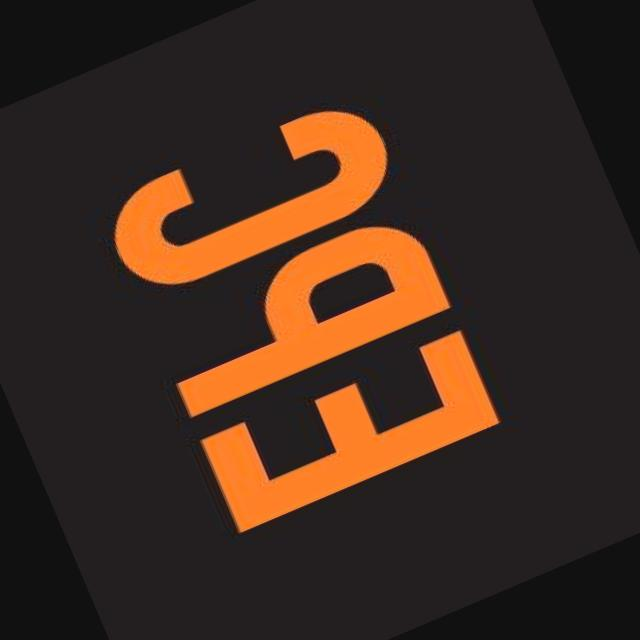kontrolka: (65, 61, 532, 559)
